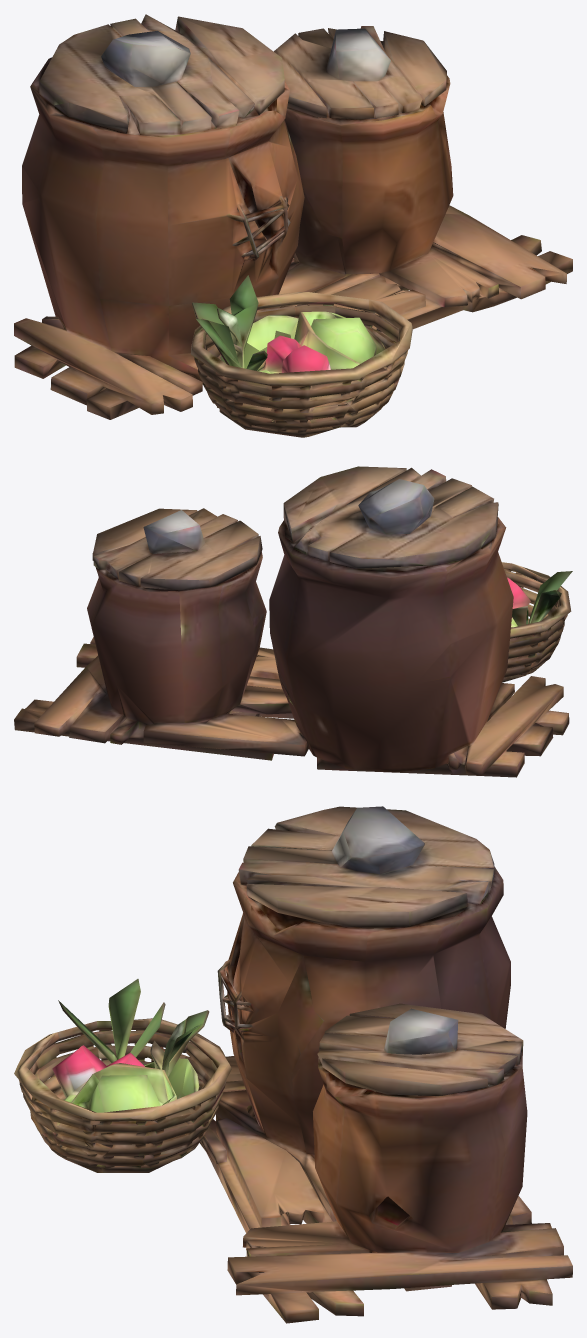
Rendered from yancai-1.glb.
The picture shows the model from 3 angles, top to bottom: view 1: azimuth 30°, elevation 25°; view 2: azimuth 150°, elevation 25°; view 3: azimuth 270°, elevation 25°; orthographic projection. The views are drawn at different scales.
Visible parts, largest first — view 1: node_0; view 2: node_0; view 3: node_0.
Part boxes in pixels (bbox=[...]): node_0: bbox=[14, 14, 572, 437]; node_0: bbox=[14, 466, 572, 777]; node_0: bbox=[14, 806, 572, 1323].
Bounding box in the file's own units: 0.902 × 0.5006 × 0.8154.
1 material, 1 textured.
